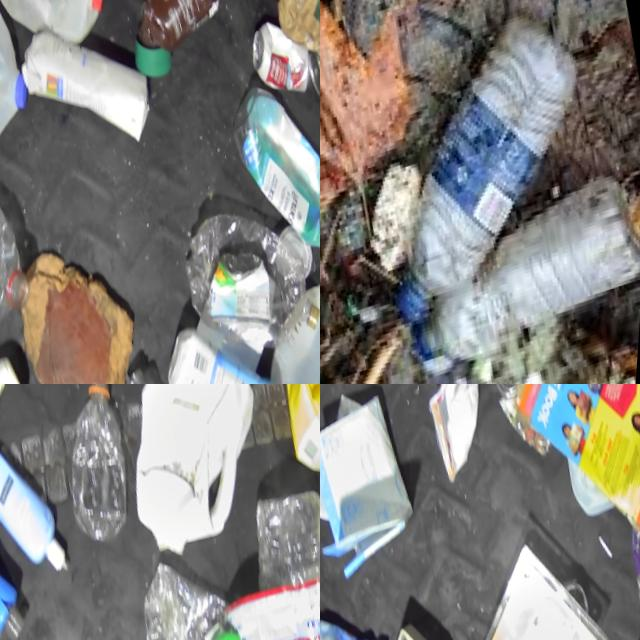milk_jug: (101, 384, 286, 576), (0, 0, 48, 175), (0, 0, 115, 64), (258, 281, 320, 384)
non_white_jug: (267, 384, 320, 533)
plastic_bottle: (341, 8, 629, 347), (402, 196, 640, 384), (52, 385, 146, 558), (261, 502, 320, 640)
